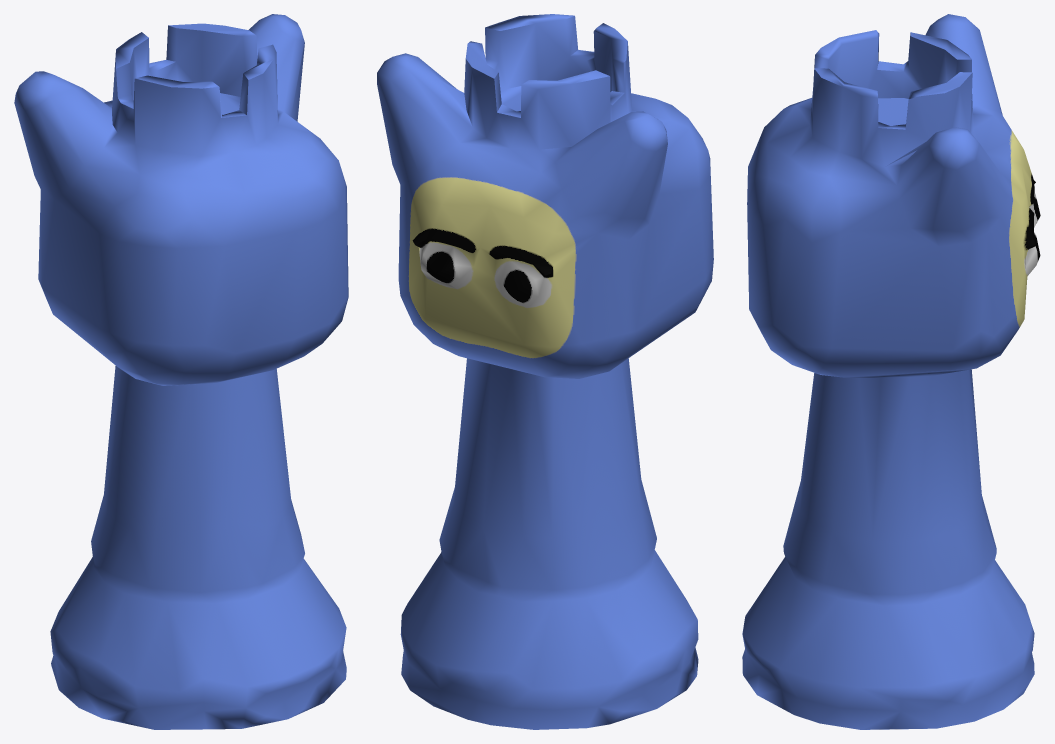
File: w-rook.glb
3 renders of one model, left to right at view 1: azimuth 30°, elevation 25°; view 2: azimuth 150°, elevation 25°; view 3: azimuth 270°, elevation 25°, orthographic. The views are drawn at different scales.
Visible parts, largest first — view 1: ProcessedMeshNode_LOD1; view 2: ProcessedMeshNode_LOD1; view 3: ProcessedMeshNode_LOD1.
Boxes of the visible parts, x1,y1,x2,y2 form: ProcessedMeshNode_LOD1: (14,14,348,729); ProcessedMeshNode_LOD1: (377,14,713,729); ProcessedMeshNode_LOD1: (742,14,1040,729).
Size of the model in its own units: 0.425 by 0.892 by 0.3952.
Materials: 1 (1 with a texture image).
